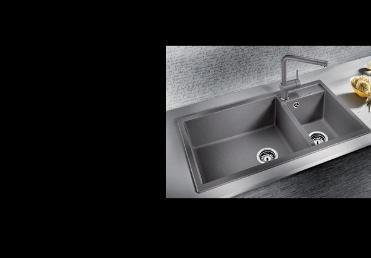Lavaplatos: (172, 46, 369, 189)
